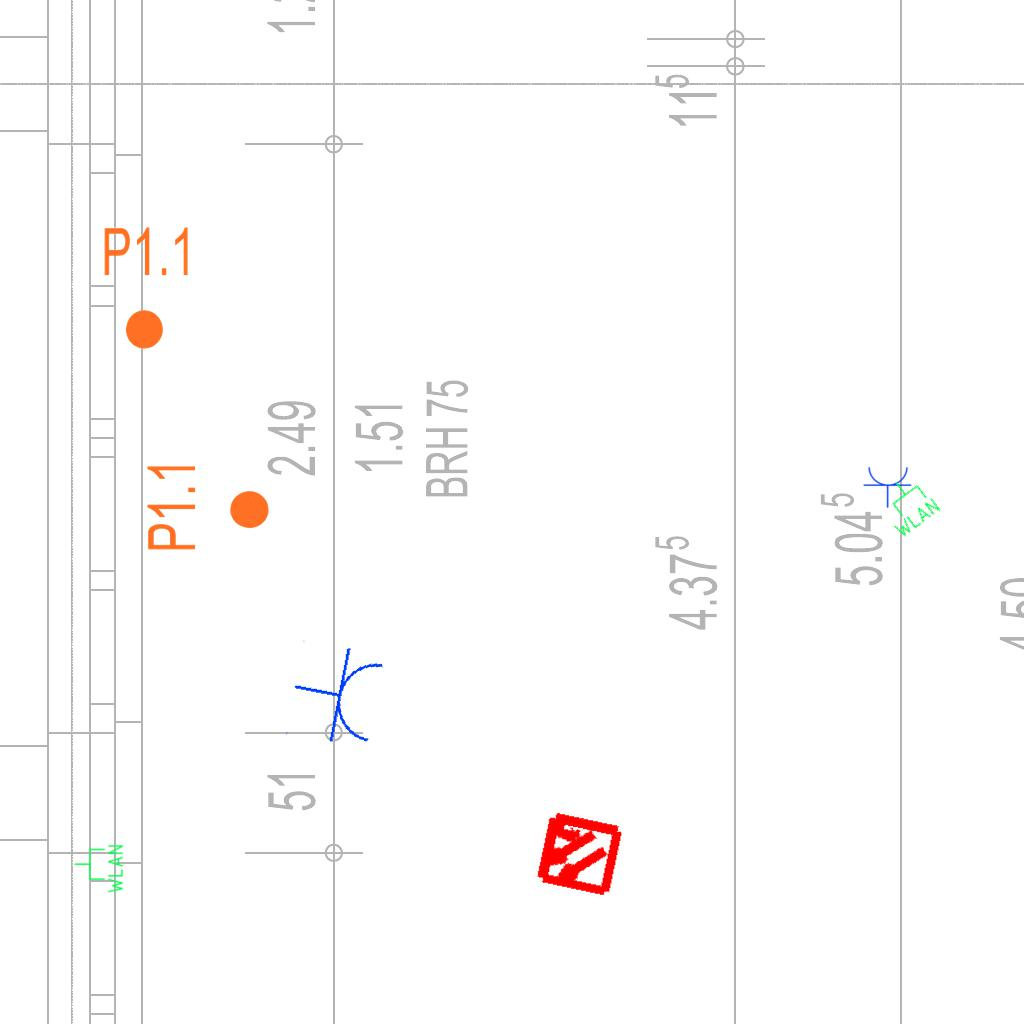Downlight_LED_Einbauleuchten_Flur: (144, 460, 272, 553), (101, 224, 194, 352)
OT_Multisensormelder_(Kombination_RMO_WMD): (510, 786, 645, 921)
Schukosteckdose_einfach: (284, 638, 390, 753), (863, 465, 913, 508)
WLAN: (870, 468, 944, 542), (73, 843, 125, 895)
